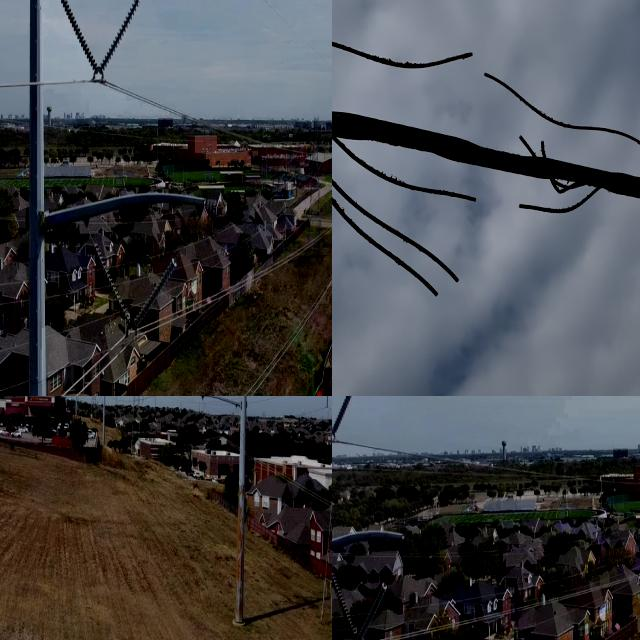杆塔: (312, 396, 332, 640), (129, 396, 146, 451)
正常绝缘子: (124, 245, 186, 343), (86, 229, 139, 335), (89, 0, 145, 90), (332, 571, 394, 640), (57, 0, 105, 83), (332, 396, 357, 449), (220, 409, 237, 438), (207, 409, 223, 439), (323, 396, 332, 414)
电缆破损: (332, 0, 640, 309)
